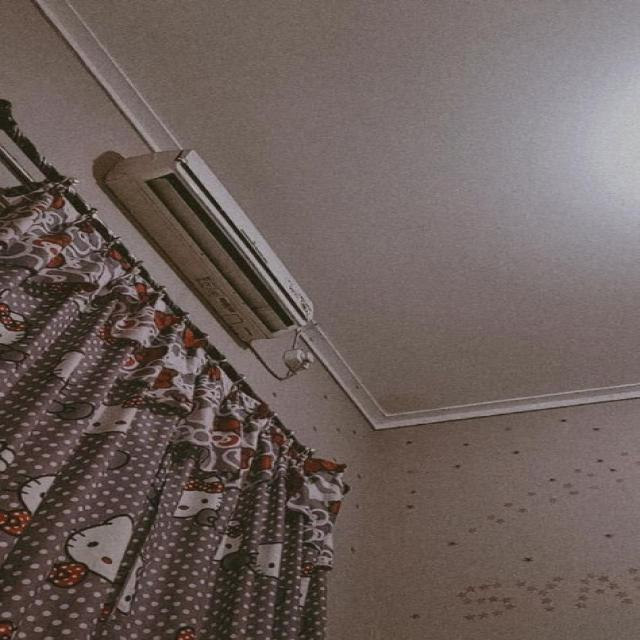AC: (103, 148, 314, 344)
